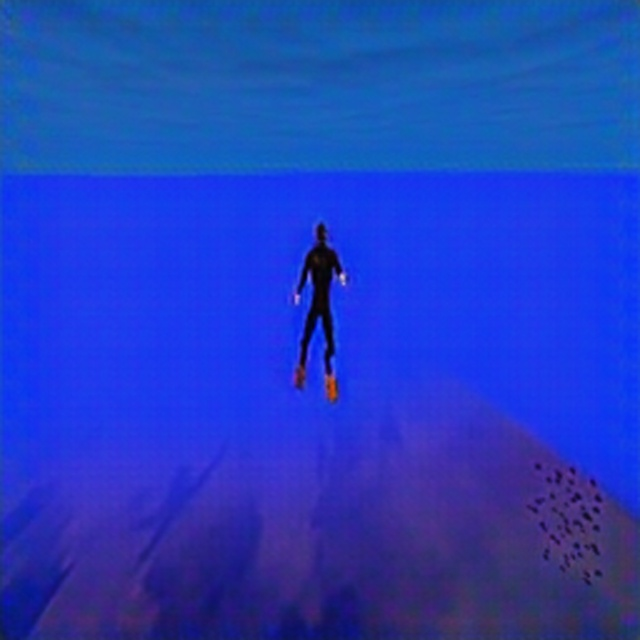diver: (290, 219, 348, 401)
